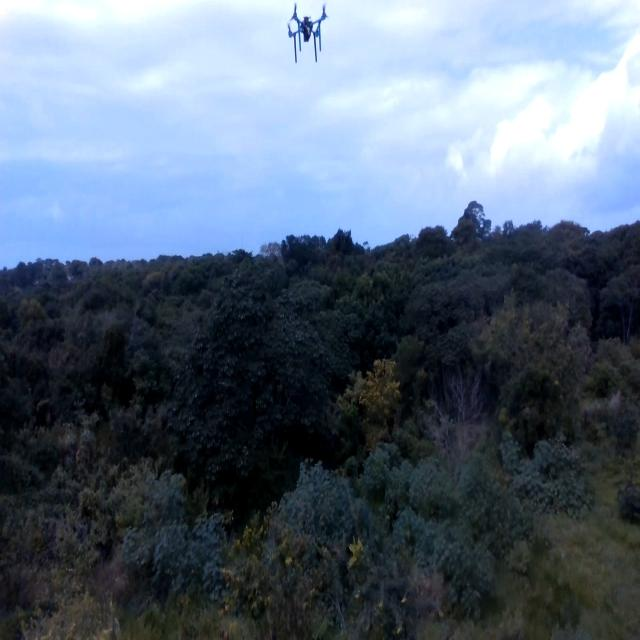-uav-: (281, 0, 334, 67)
